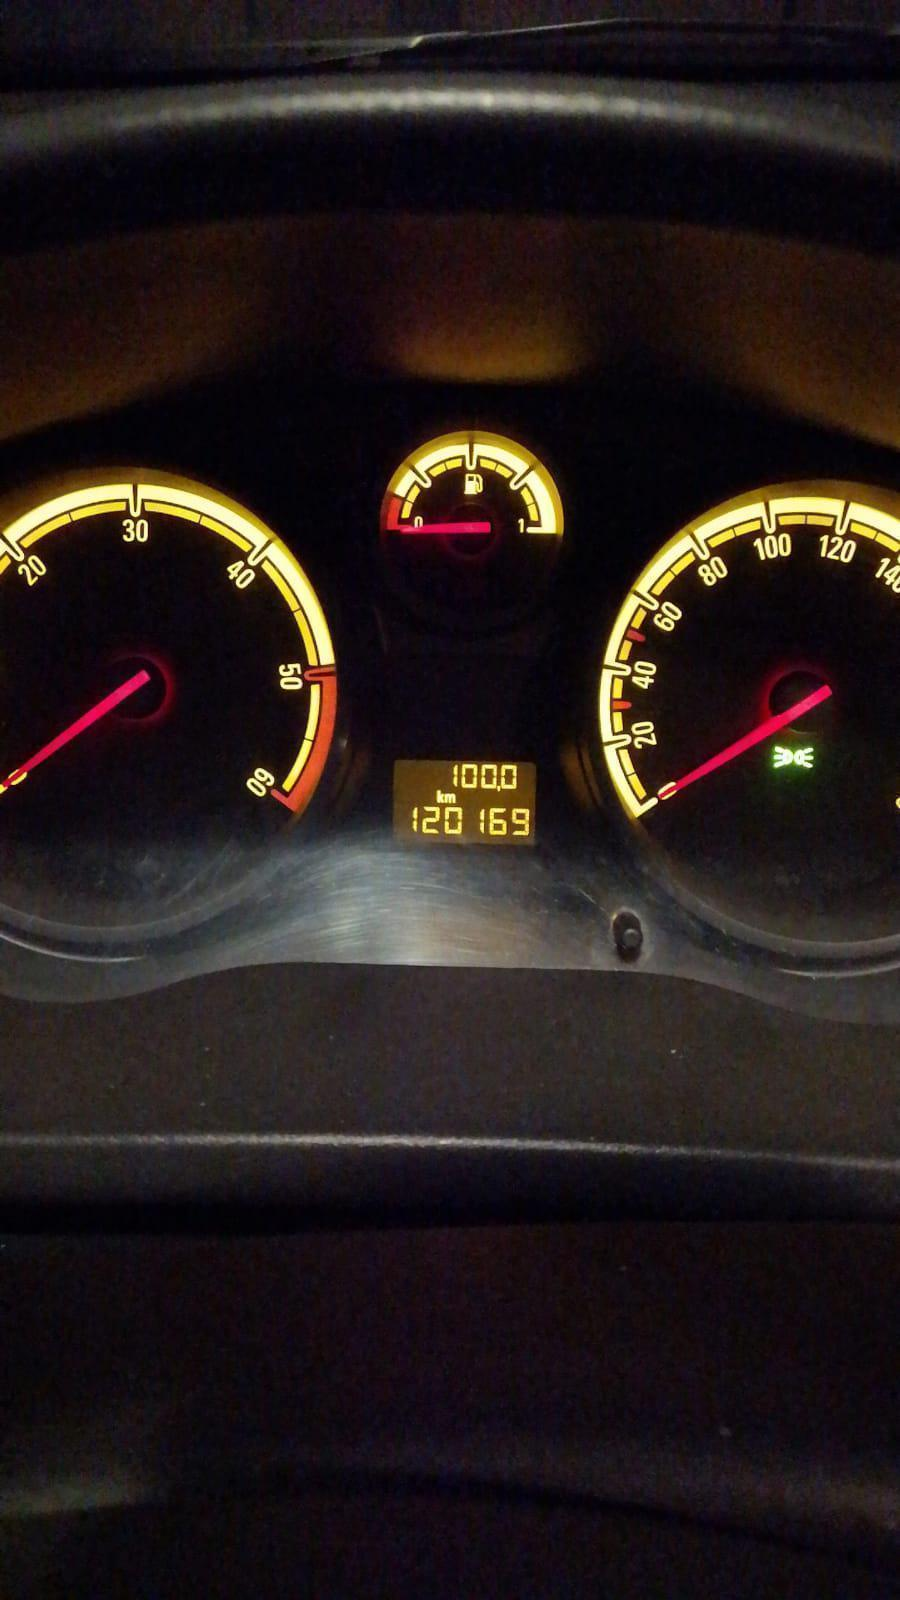,: (496, 784, 501, 792)
0: (443, 805, 463, 834), (460, 763, 478, 788), (500, 763, 516, 789), (480, 764, 497, 789)
1: (410, 805, 419, 832), (451, 764, 458, 787), (478, 807, 485, 833)
2: (421, 805, 440, 833)
6: (488, 805, 507, 835)
9: (511, 807, 530, 836)
X: (444, 792, 456, 803), (435, 789, 444, 803)
odometer: (390, 757, 538, 845)
